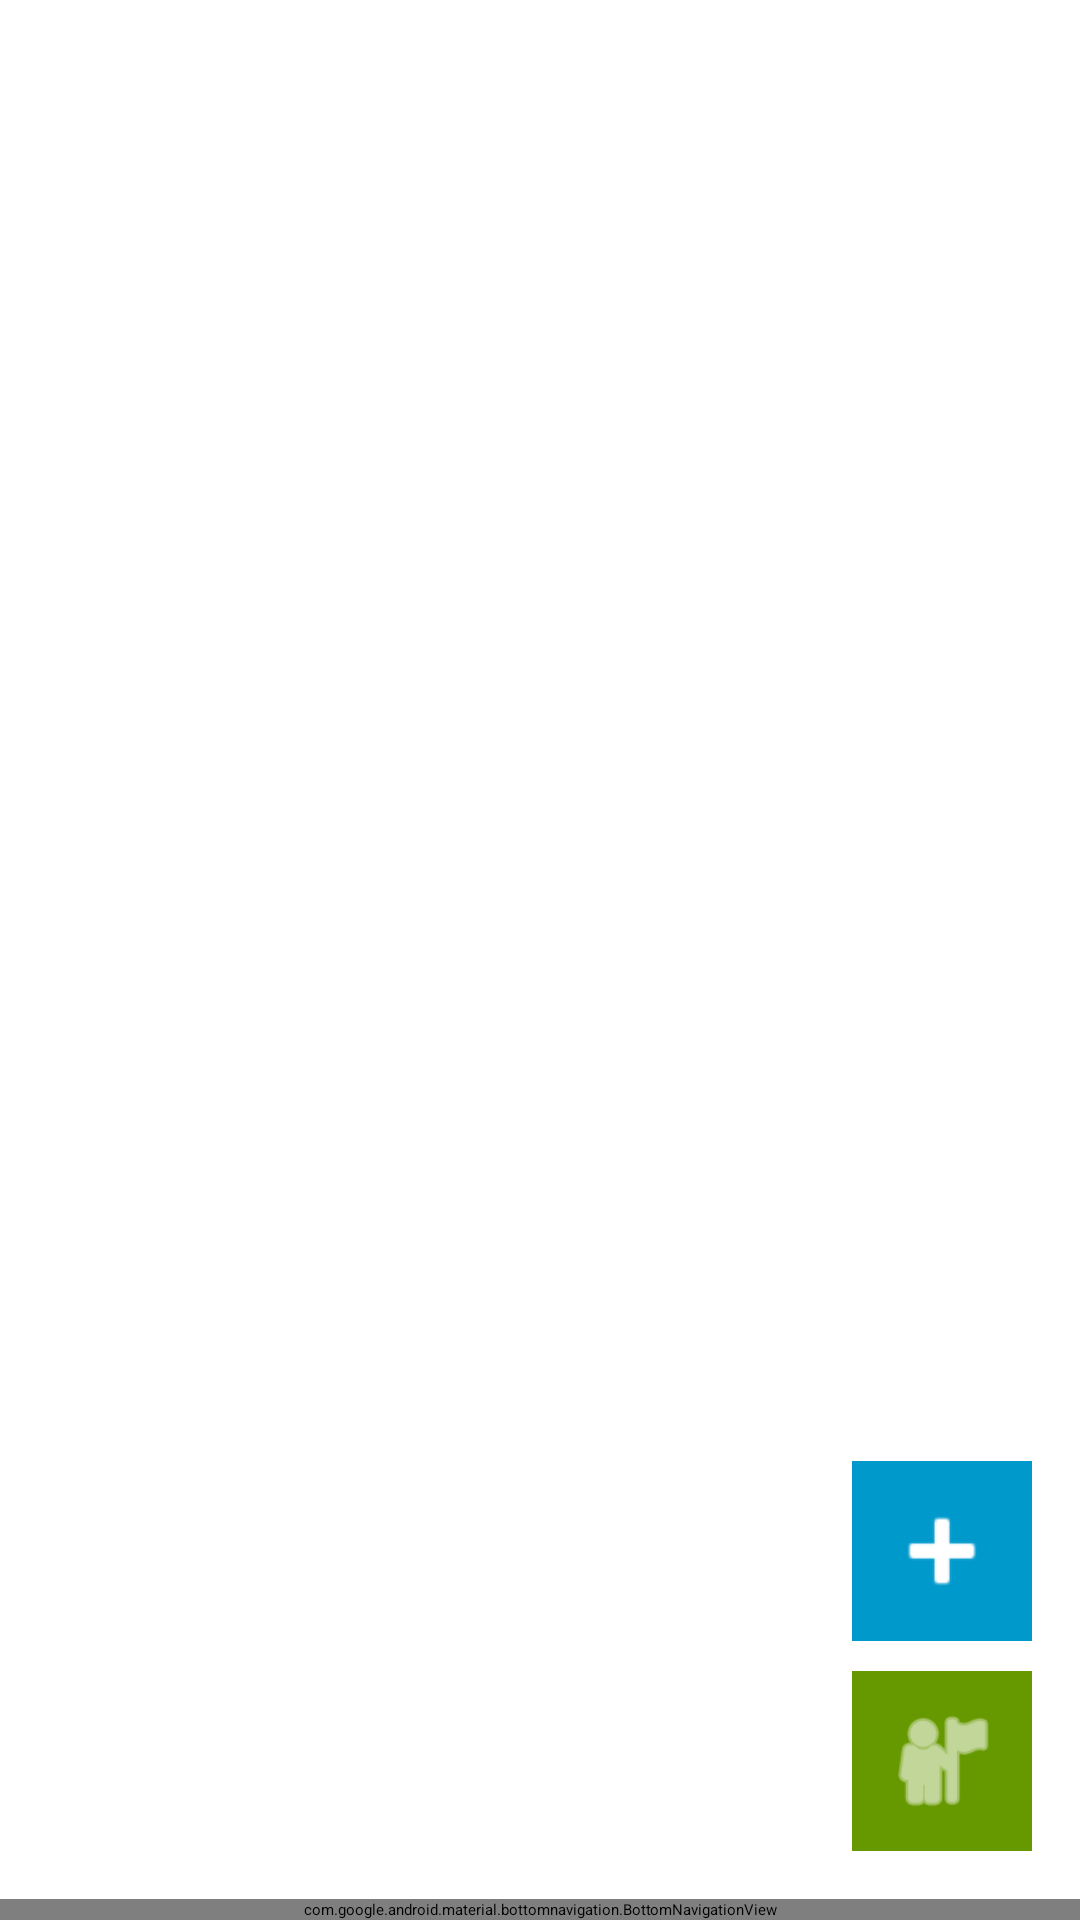

Icons on this 1080×1920 Android screen, each with the point to tap as [x,y]:
add: [942,1551]
myplaces: [942,1761]
